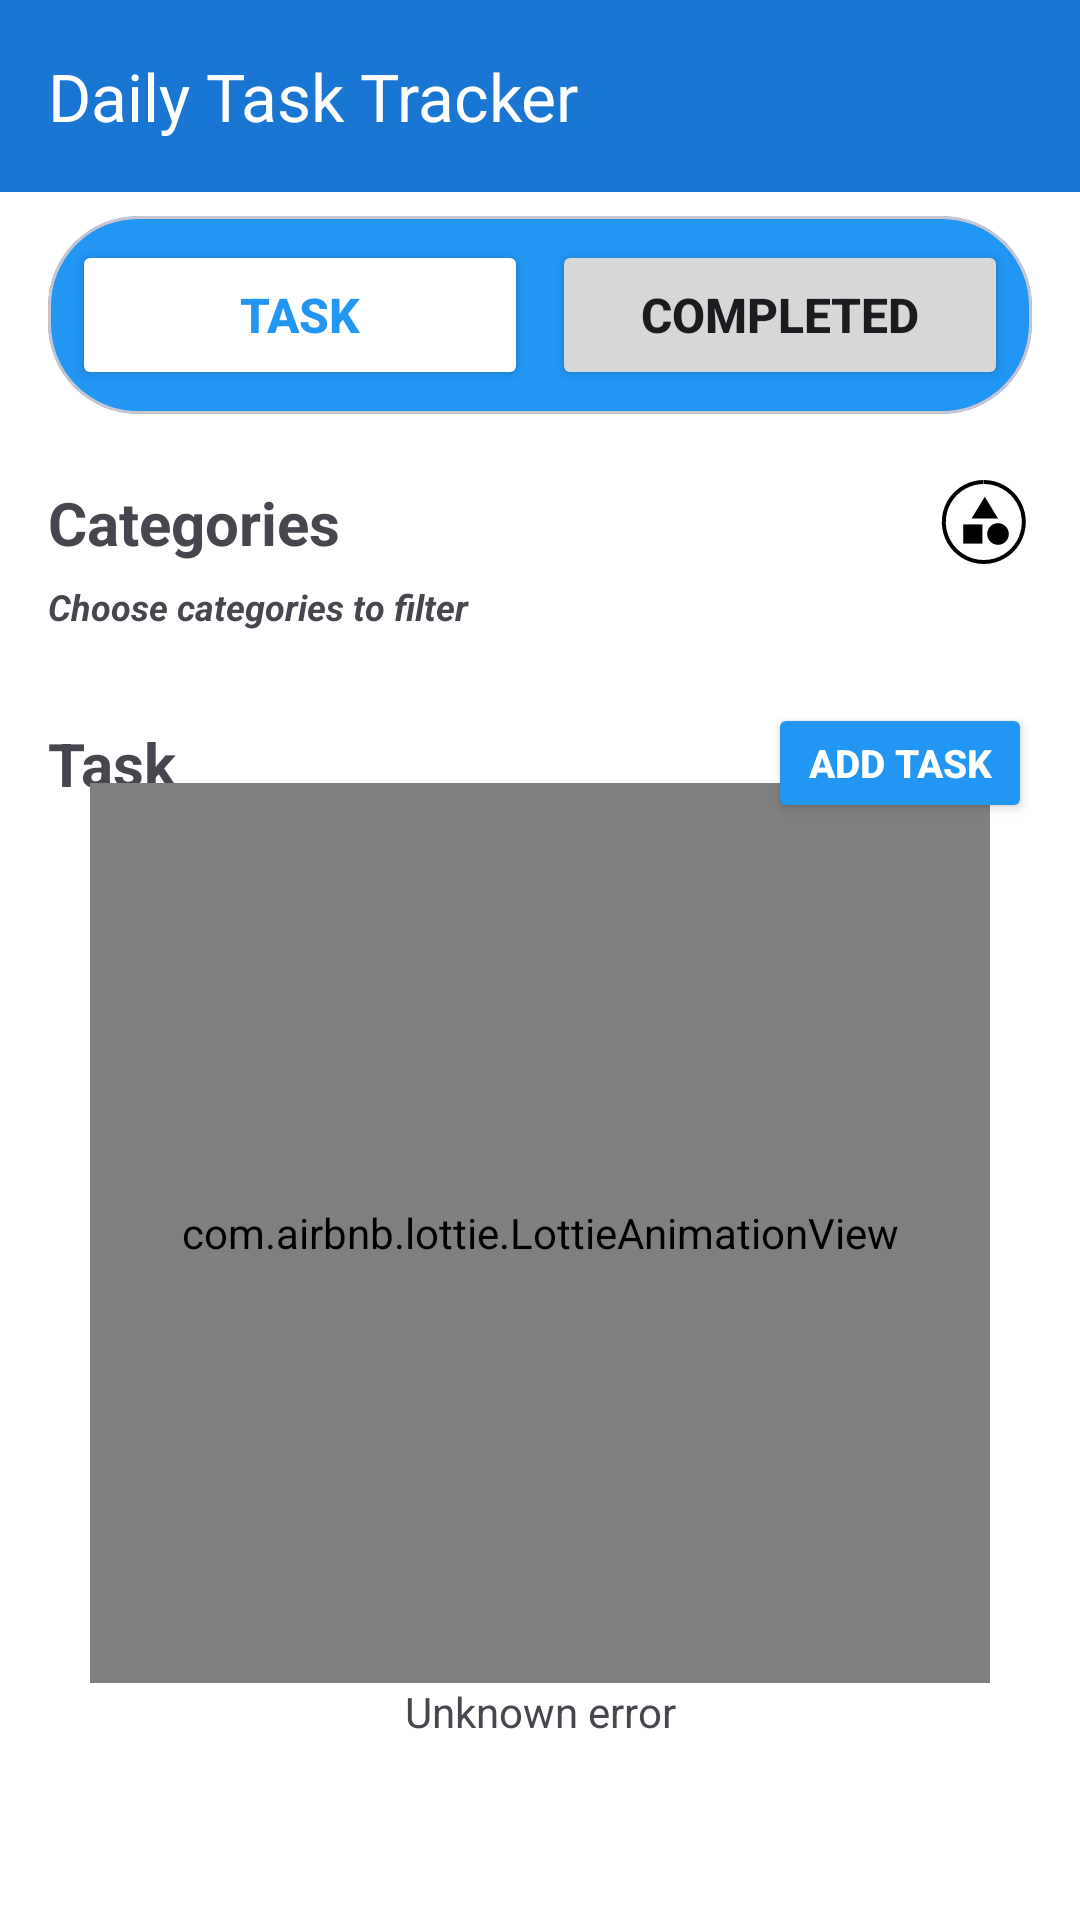

Named icons in this screenshot (1080px x 1920px) and their centers, (x,y):
category: (983,522)
